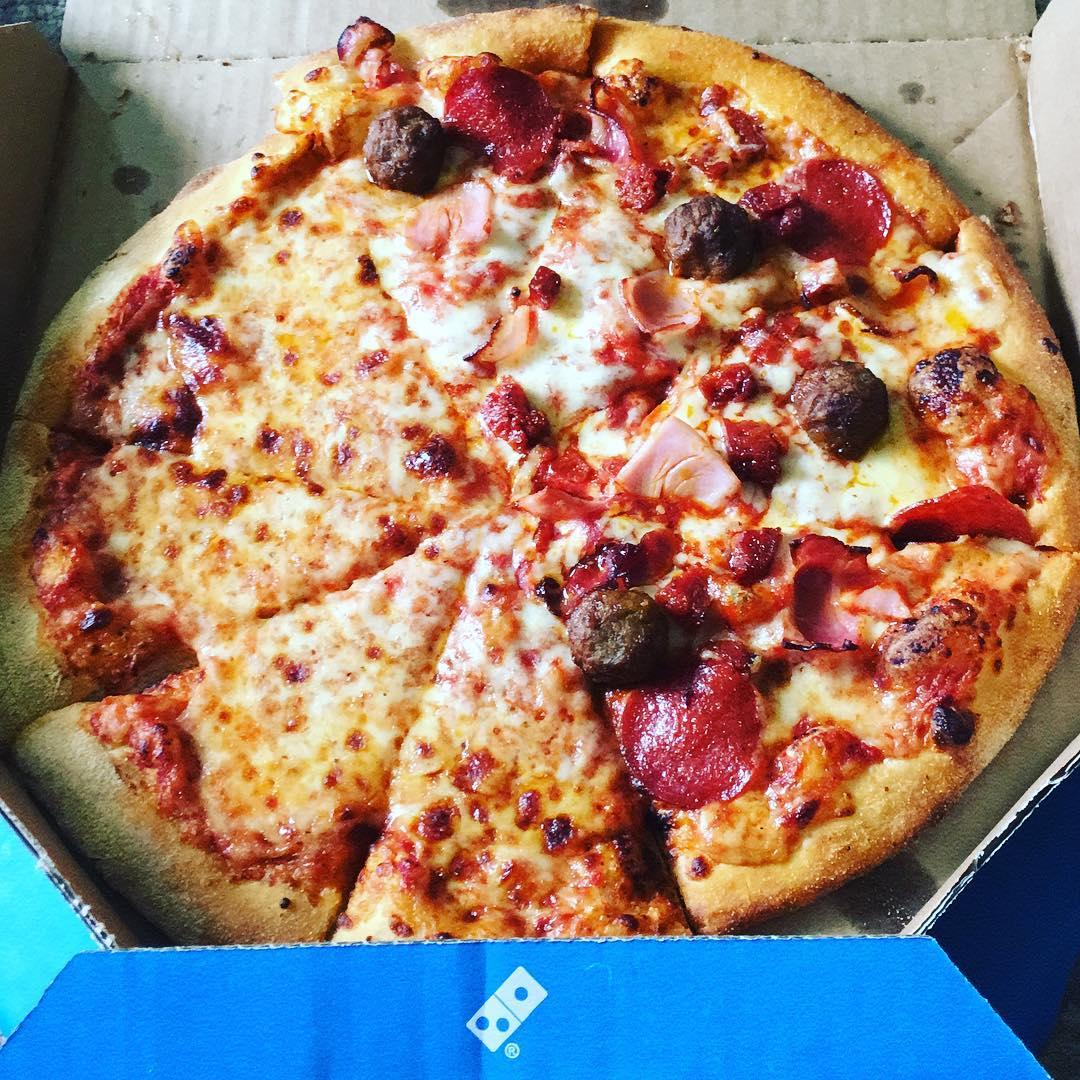Cheese: (189, 587, 601, 890), (221, 241, 446, 473), (125, 453, 426, 592), (499, 207, 656, 390)
Ham: (624, 421, 754, 516), (414, 181, 503, 292), (465, 305, 548, 362)
Pepperoni: (768, 514, 938, 652), (768, 151, 900, 276), (448, 48, 567, 181), (621, 688, 758, 800), (598, 304, 707, 443), (914, 468, 1031, 532), (601, 108, 667, 203)
Pizza: (8, 14, 1080, 951)
